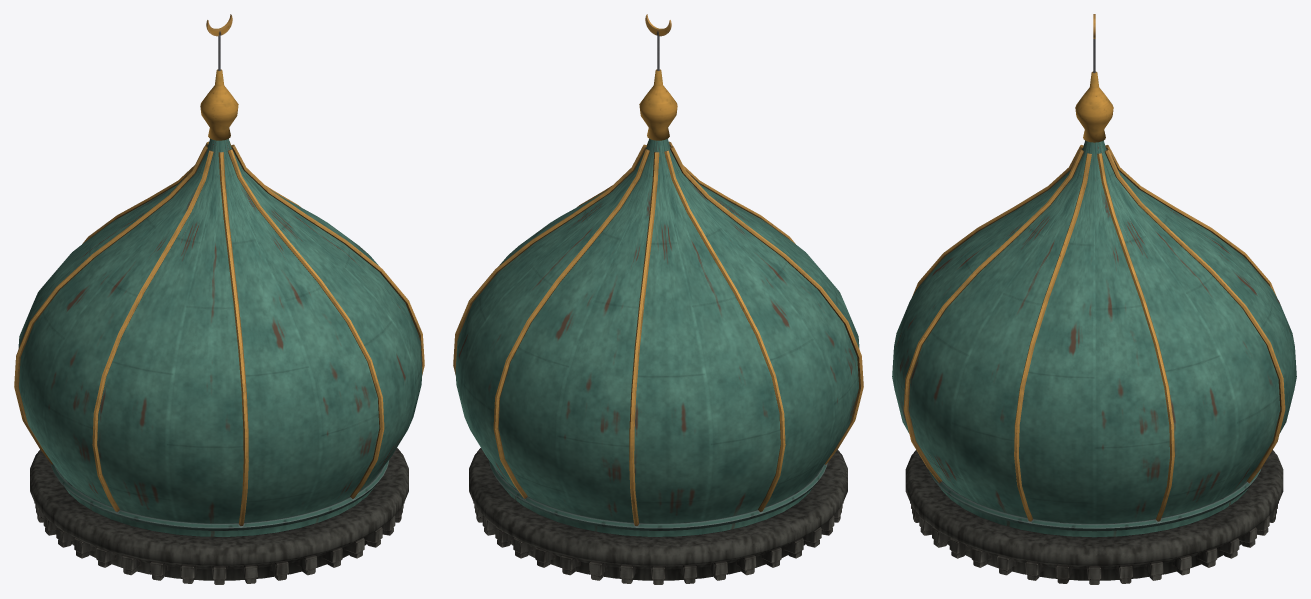
File: OnionDome.fbx
The picture shows the model from 3 angles, left to right: view 1: azimuth 30°, elevation 25°; view 2: azimuth 150°, elevation 25°; view 3: azimuth 270°, elevation 25°; orthographic projection.
Parts seen in each view (by area): view 1: OnionDome_Copper, OnionDome_Main; view 2: OnionDome_Copper, OnionDome_Main; view 3: OnionDome_Copper, OnionDome_Main.
Part boxes in pixels (box(x1,y1,x2,y2)): OnionDome_Copper: box(18, 138, 422, 536); OnionDome_Main: box(14, 14, 424, 584); OnionDome_Copper: box(455, 138, 859, 536); OnionDome_Main: box(453, 14, 863, 584); OnionDome_Copper: box(892, 140, 1296, 537); OnionDome_Main: box(903, 14, 1285, 584).
Size of the model in its own units: 844 by 1127 by 844.
